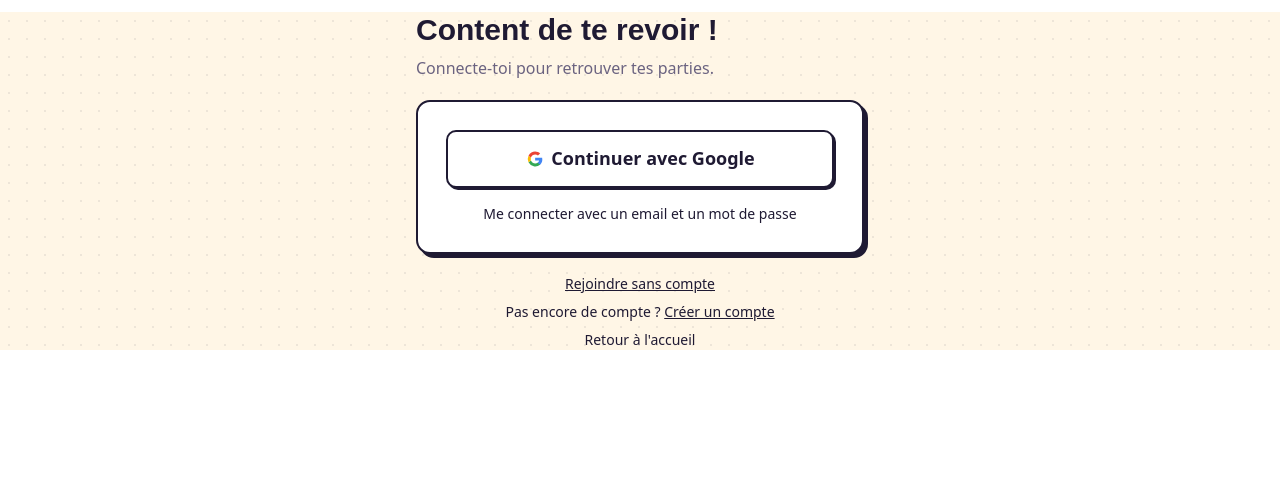
Scenario: bouton Google › affiche une erreur si la connexion Google n'aboutit pas
Click the button "Continuer avec Google" at (640, 159), box [446,130,834,188]
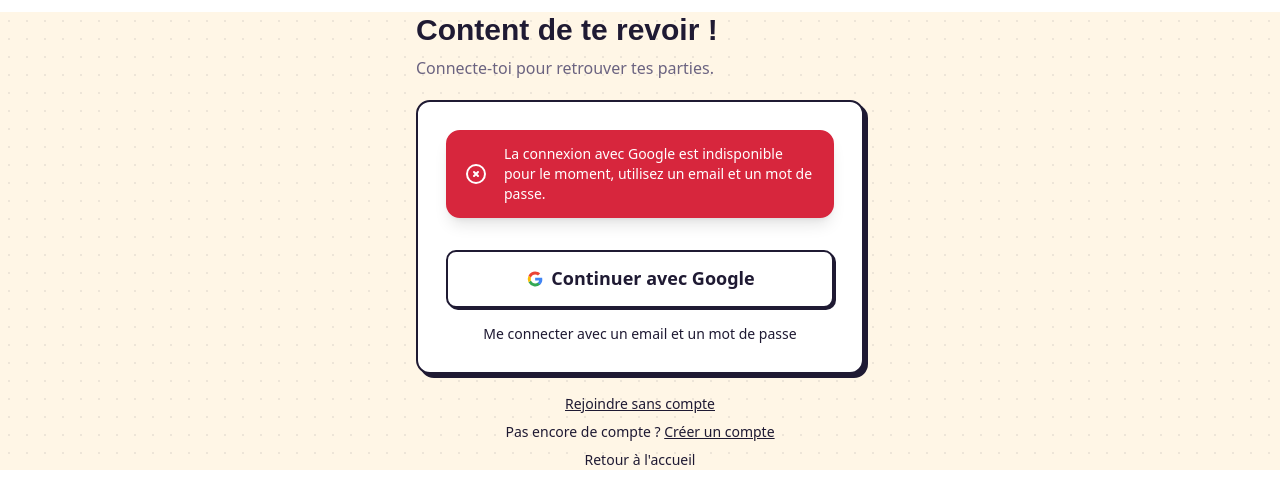
Expected: the message is shown, [446,130,834,218]
